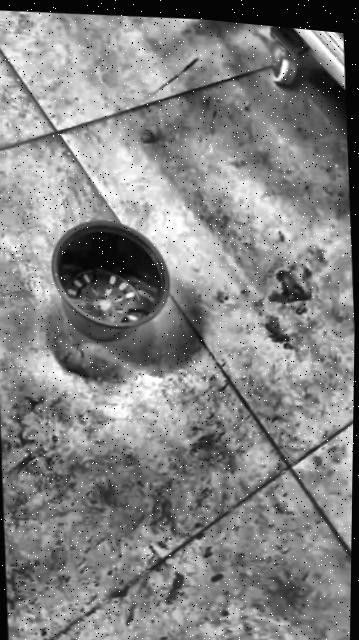pot: (46, 213, 173, 350)
